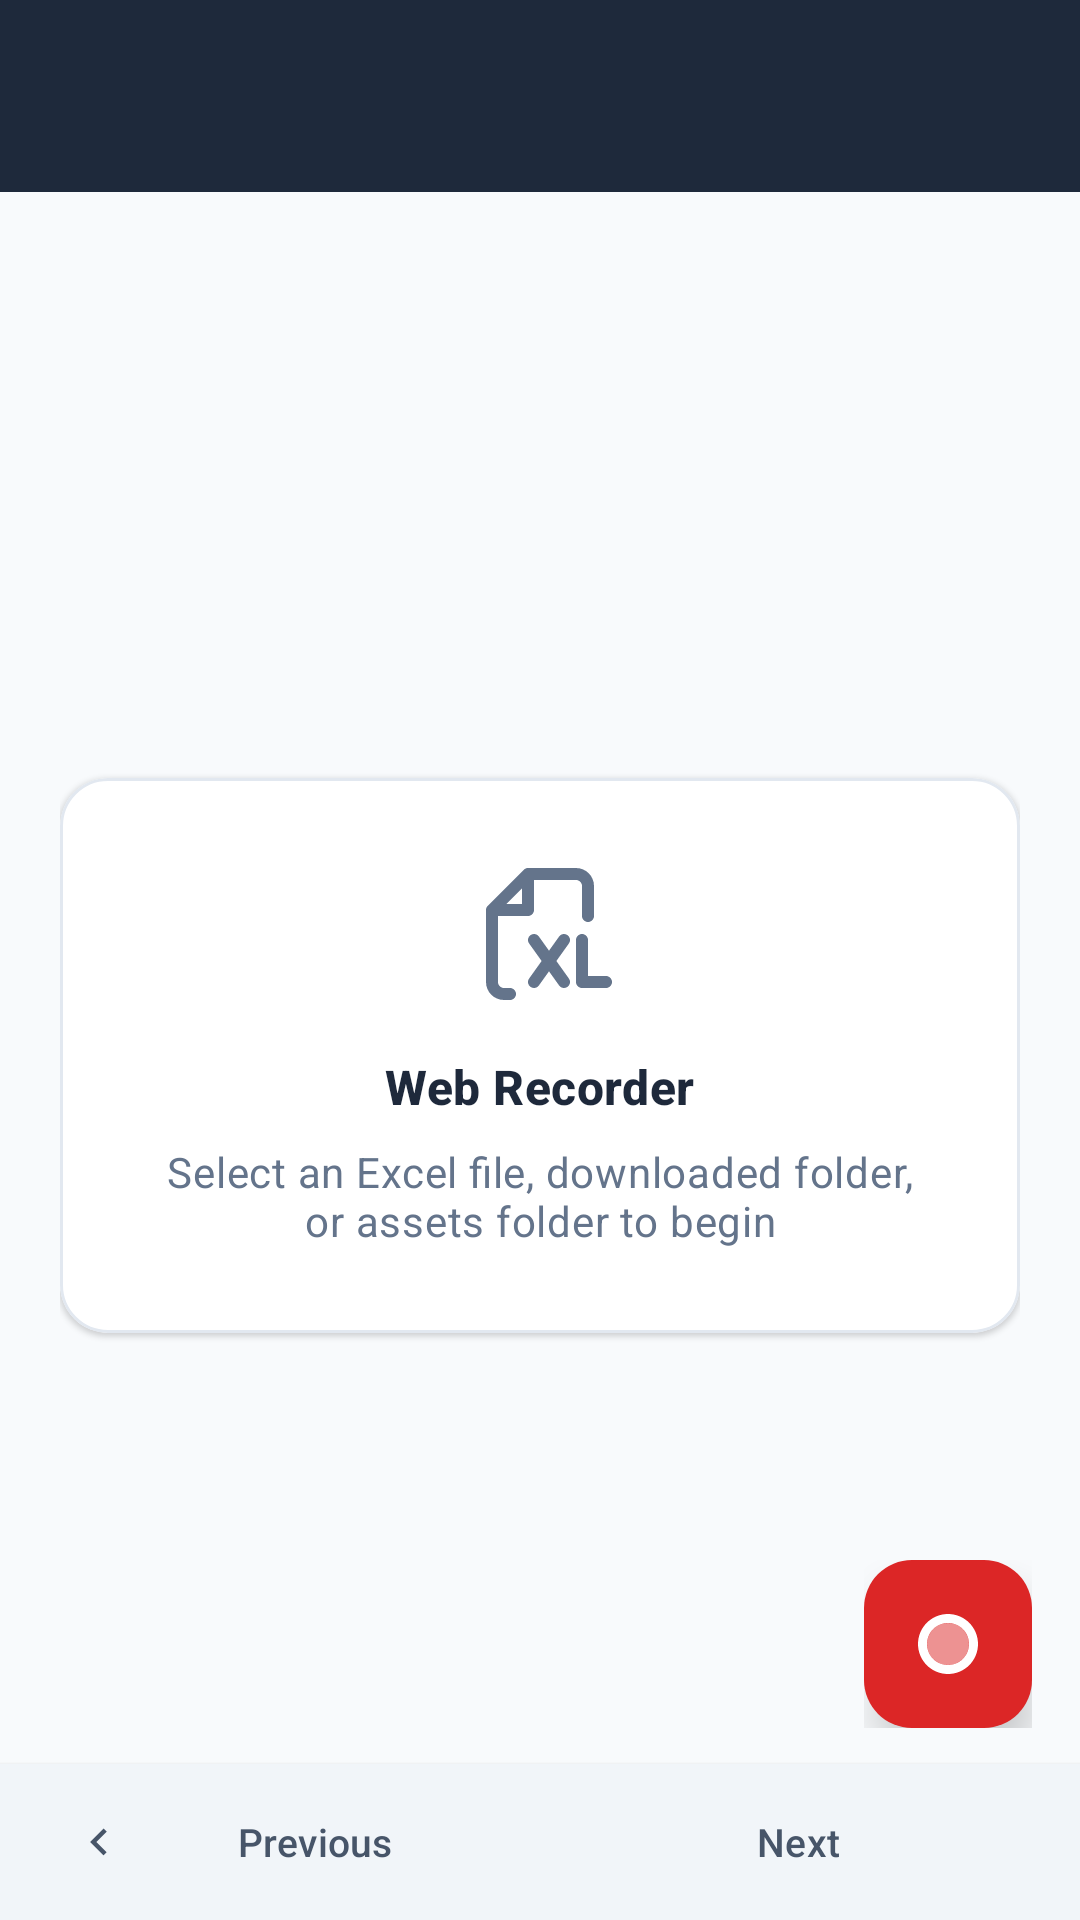

Where icons sit on this 1080px×1920px app screen, as (x1, y1, x2, y2):
record: (864, 1560, 1032, 1728)
